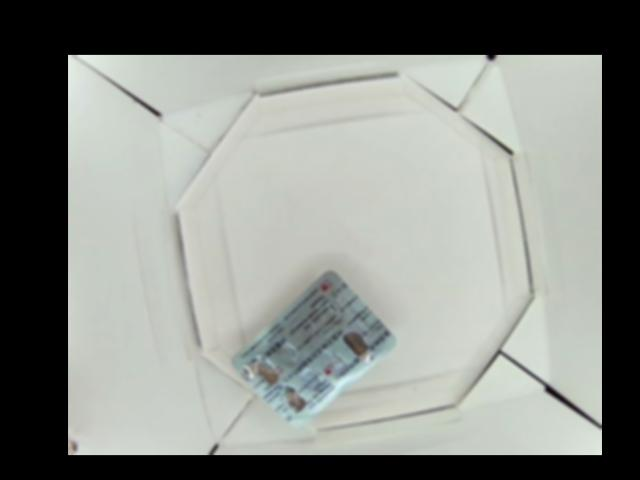Medicine: (233, 268, 397, 429)
